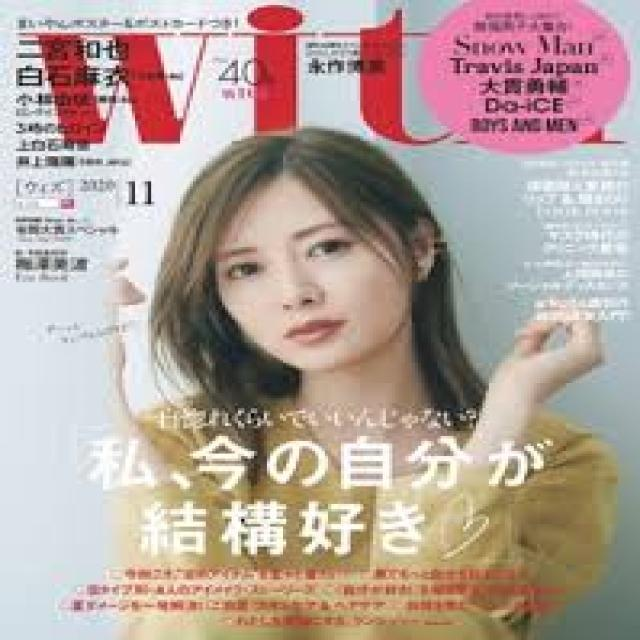Newspaper: (0, 0, 630, 640)
